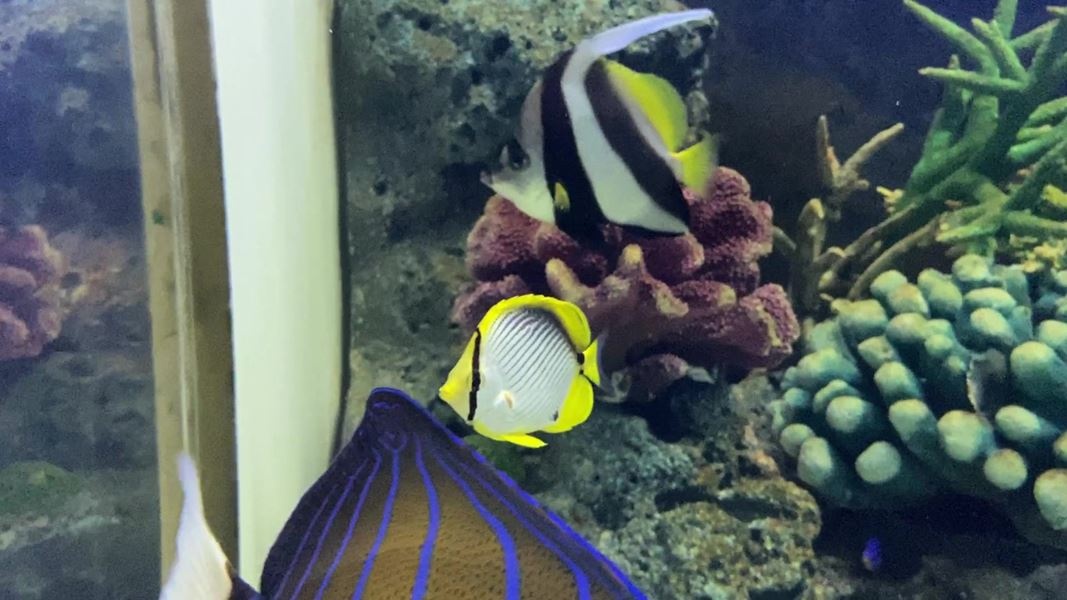Black-backed butterflyfish: (431, 284, 626, 461)
